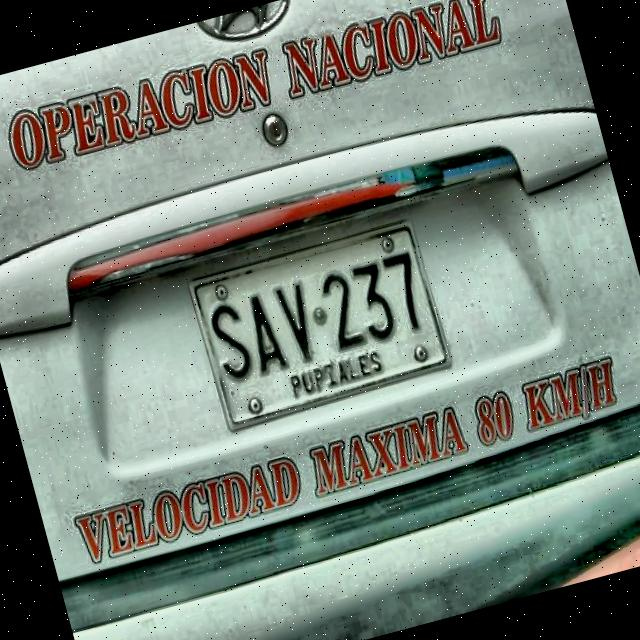2: (314, 267, 370, 354)
3: (346, 257, 402, 343)
7: (380, 248, 434, 335)
A: (242, 290, 293, 376)
S: (202, 298, 258, 384)
V: (271, 279, 323, 367)
